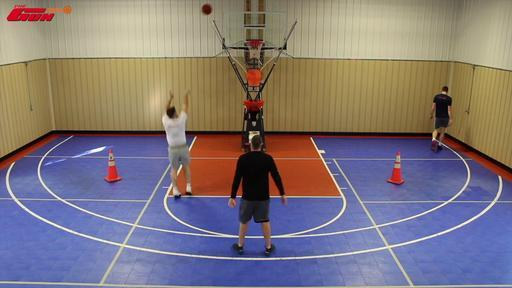ball: (201, 4, 213, 15)
human: (228, 135, 286, 256), (161, 90, 192, 199), (430, 86, 452, 152)
rim: (244, 39, 266, 58)
